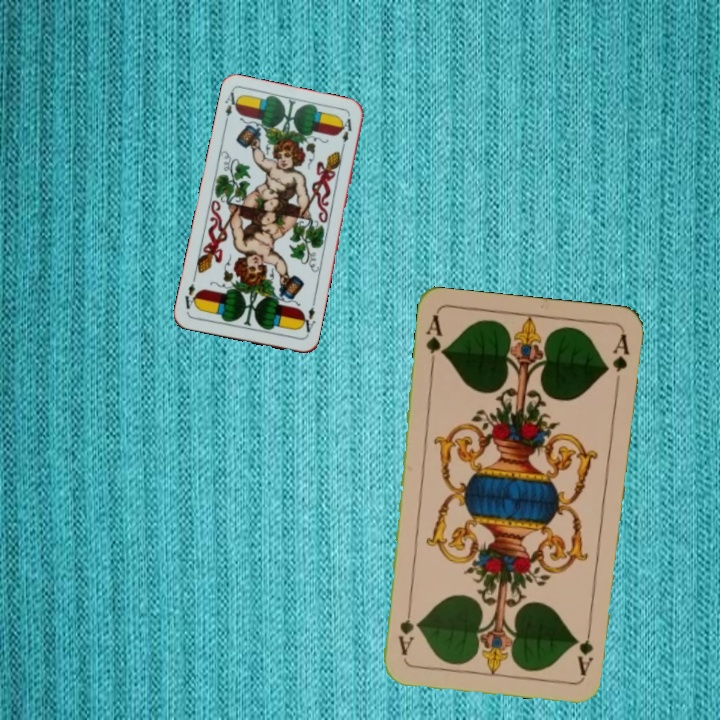EA: (296, 298, 318, 338), (221, 88, 242, 128)
GA: (421, 311, 447, 371), (575, 619, 596, 678)
